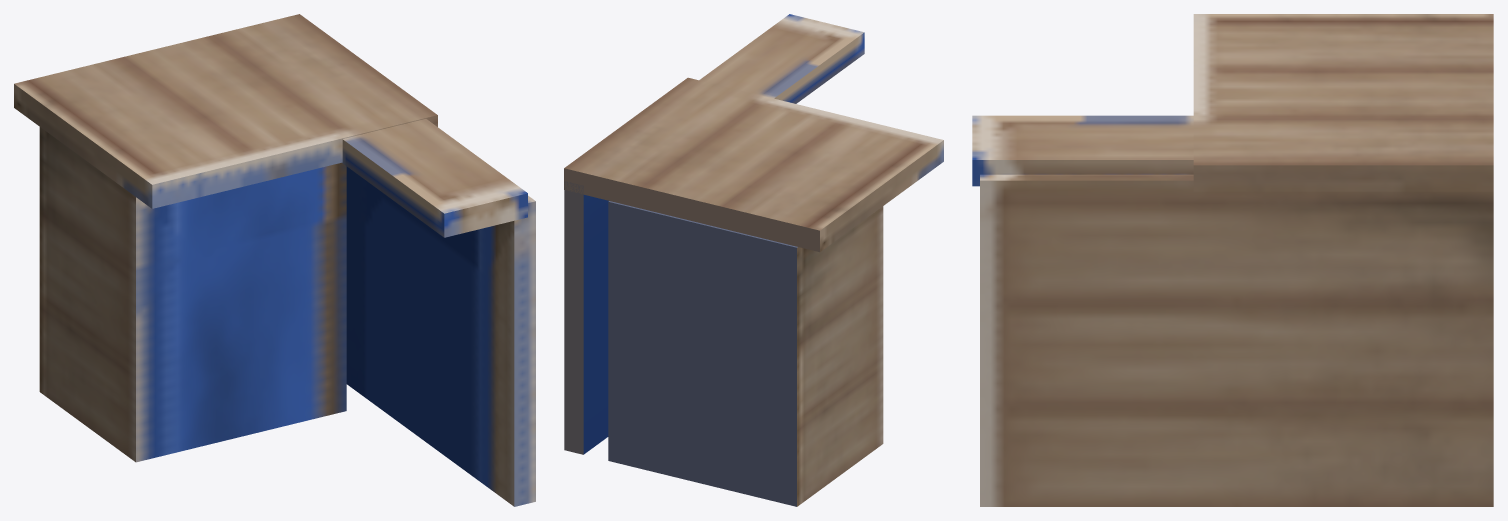
The model's file is section-2.obj.
3 views of the same model, side by side, from view 1: azimuth 30°, elevation 25°; view 2: azimuth 150°, elevation 25°; view 3: azimuth 270°, elevation 25° (orthographic). The views are drawn at different scales.
Bounding box in the file's own units: 0.7867 × 0.8278 × 1.14.
Materials: 1 (1 with a texture image).
